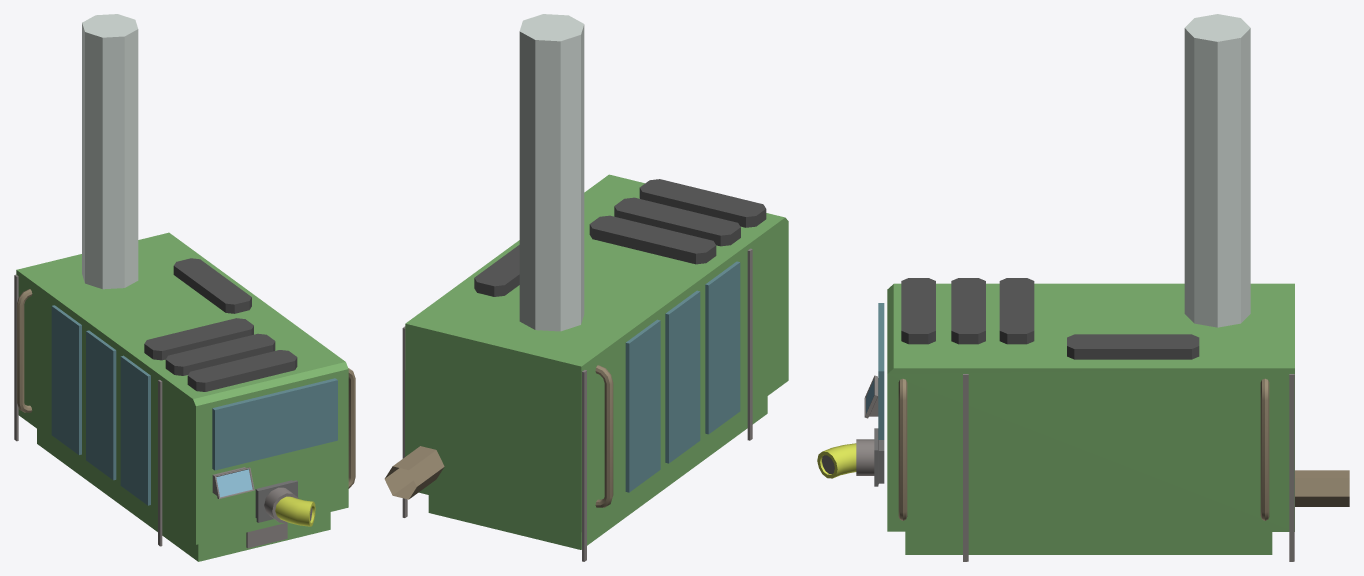
File: SM_Boiler_Pipe_01.fbx
The picture shows the model from 3 angles, left to right: view 1: azimuth 30°, elevation 25°; view 2: azimuth 150°, elevation 25°; view 3: azimuth 270°, elevation 25°; orthographic projection. The views are drawn at different scales.
Parts seen in each view (by area): view 1: SM_Boiler_Pipe_01; view 2: SM_Boiler_Pipe_01; view 3: SM_Boiler_Pipe_01.
Part boxes in pixels (x1=…): SM_Boiler_Pipe_01: x1=14, y1=14, x2=355, y2=561; SM_Boiler_Pipe_01: x1=384, y1=14, x2=788, y2=561; SM_Boiler_Pipe_01: x1=817, y1=14, x2=1349, y2=561.
Size of the model in its own units: 321 by 723 by 726.
